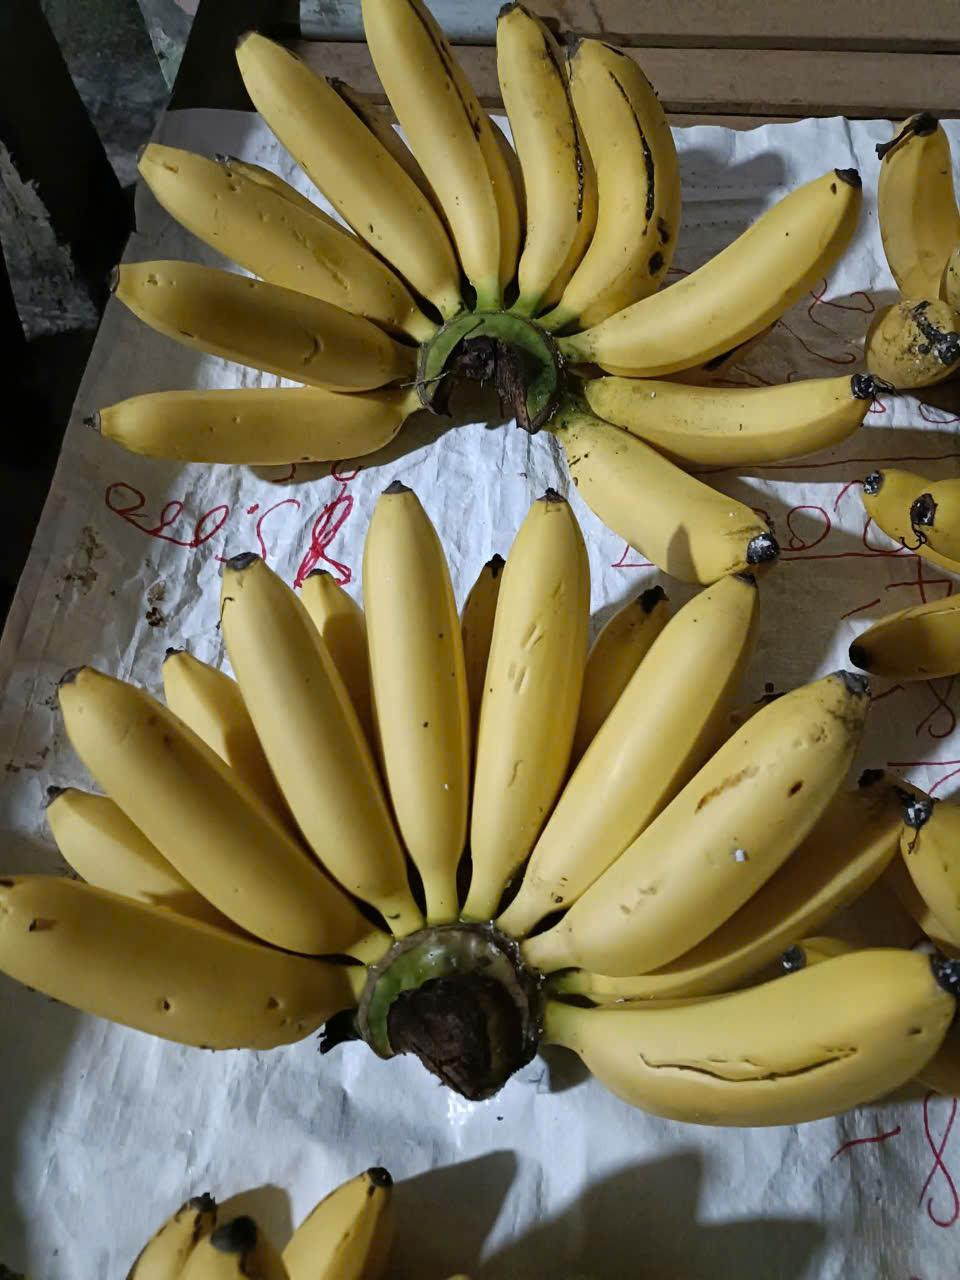banana: (545, 556, 960, 1158), (64, 13, 475, 469), (0, 559, 351, 1066), (220, 487, 600, 923), (541, 345, 878, 573), (473, 0, 679, 340)
